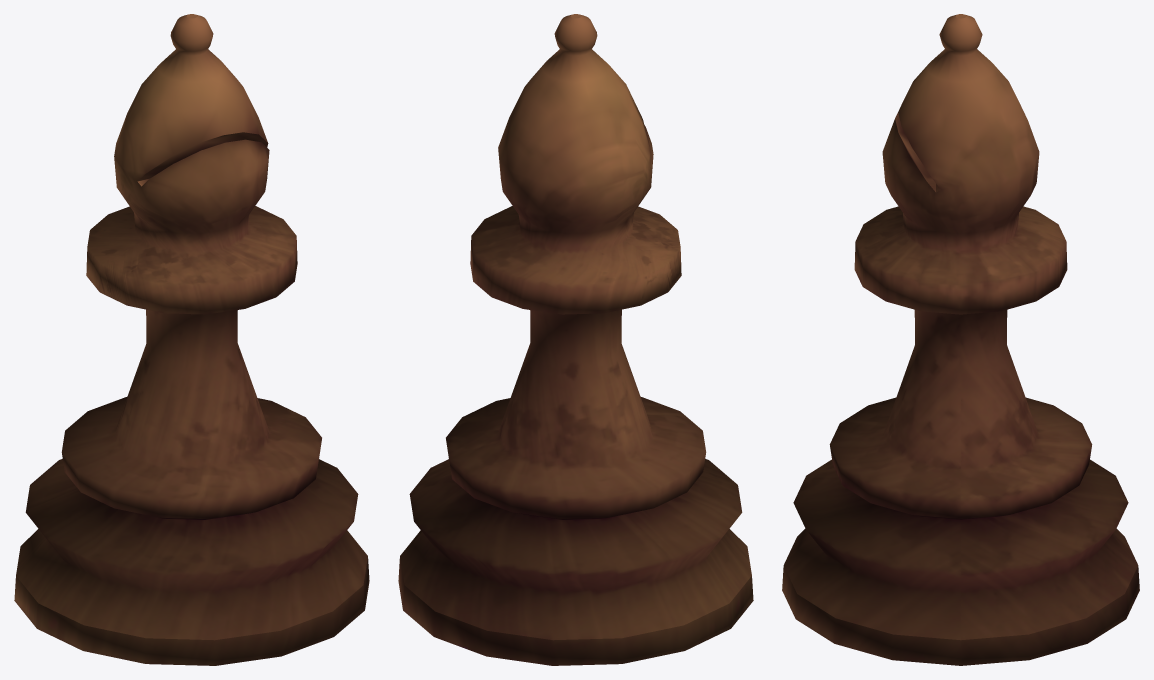
File: bishop.glb
3 renders of one model, left to right at view 1: azimuth 30°, elevation 25°; view 2: azimuth 150°, elevation 25°; view 3: azimuth 270°, elevation 25°, orthographic.
Parts seen in each view (by area): view 1: Bishop_2_Light; view 2: Bishop_2_Light; view 3: Bishop_2_Light.
Part boxes in pixels (x1,y1,x2,y2): Bishop_2_Light: (14, 14, 369, 665); Bishop_2_Light: (398, 14, 753, 665); Bishop_2_Light: (782, 14, 1139, 665).
Size of the model in its own units: 0.0958 by 0.1697 by 0.0958.
Materials: 1 (1 with a texture image).
